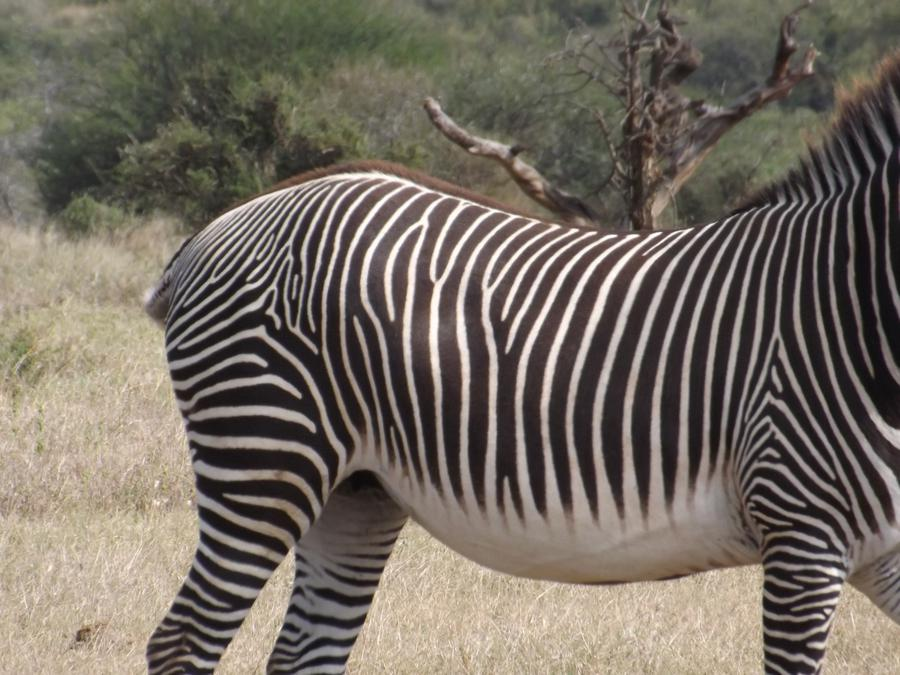zebra_grevys: (151, 126, 890, 550)
